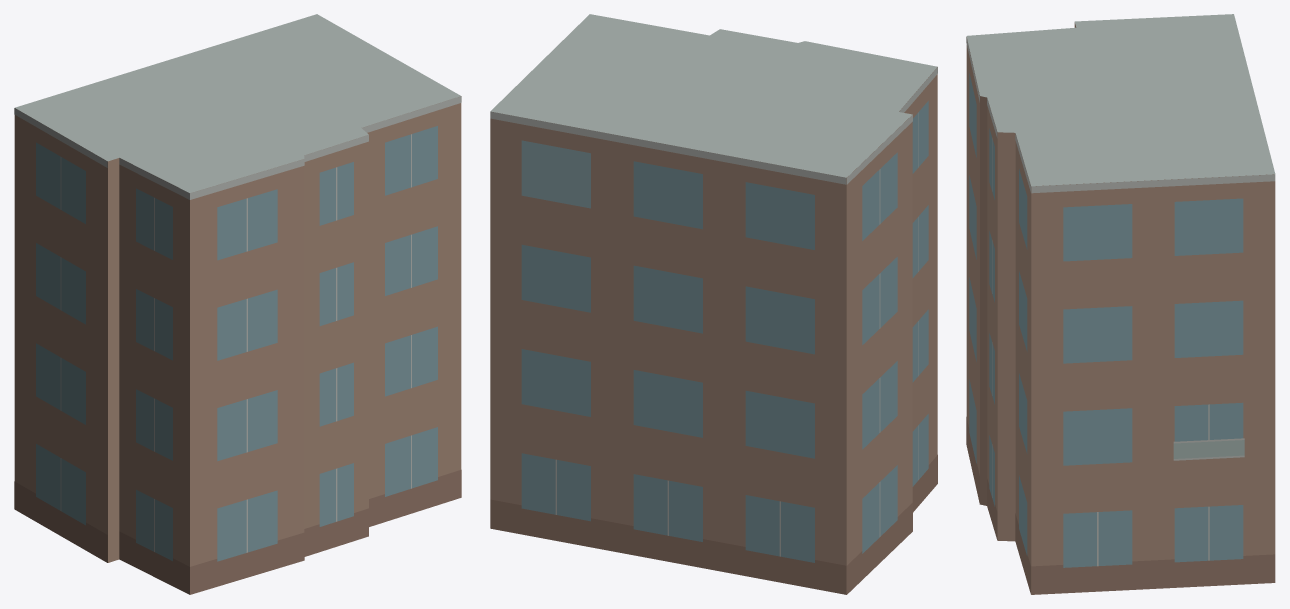
The model's file is survey-upis-33033567.glb.
3 views of the same model, side by side, from view 1: azimuth 30°, elevation 25°; view 2: azimuth 150°, elevation 25°; view 3: azimuth 270°, elevation 25° (orthographic). The views are drawn at different scales.
Visible parts, largest first — view 1: survey-upis-33033567.tmp; view 2: survey-upis-33033567.tmp; view 3: survey-upis-33033567.tmp.
Boxes of the visible parts, x1,y1,x2,y2 form: survey-upis-33033567.tmp: (14,14,461,594); survey-upis-33033567.tmp: (490,14,937,594); survey-upis-33033567.tmp: (966,14,1275,594).
Size of the model in its own units: 13.04 by 14.4 by 9.88.
